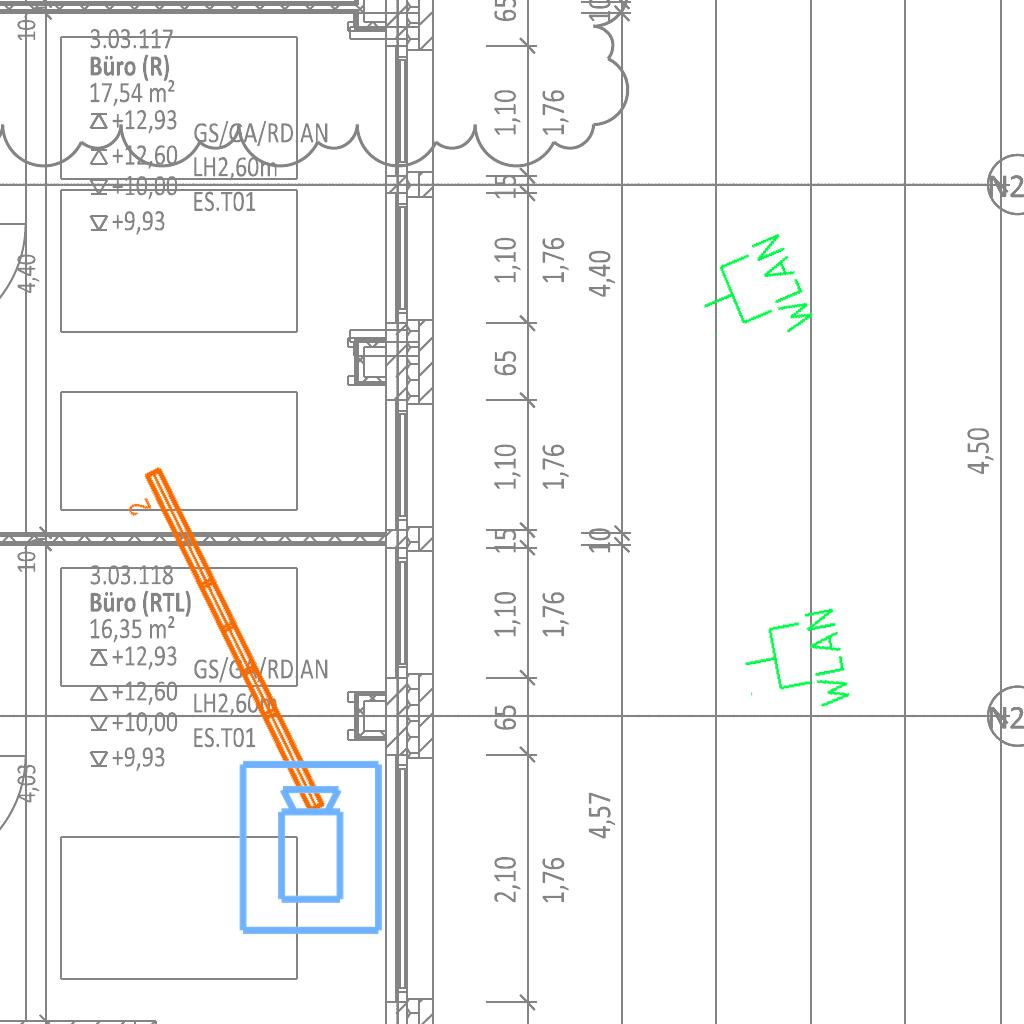Ambulanz_Pendelleuchte_LED: (113, 459, 334, 833)
KFO_Kamera_mit_Festobjektiv: (235, 757, 389, 939)
WLAN: (684, 227, 822, 366), (733, 603, 857, 726)
